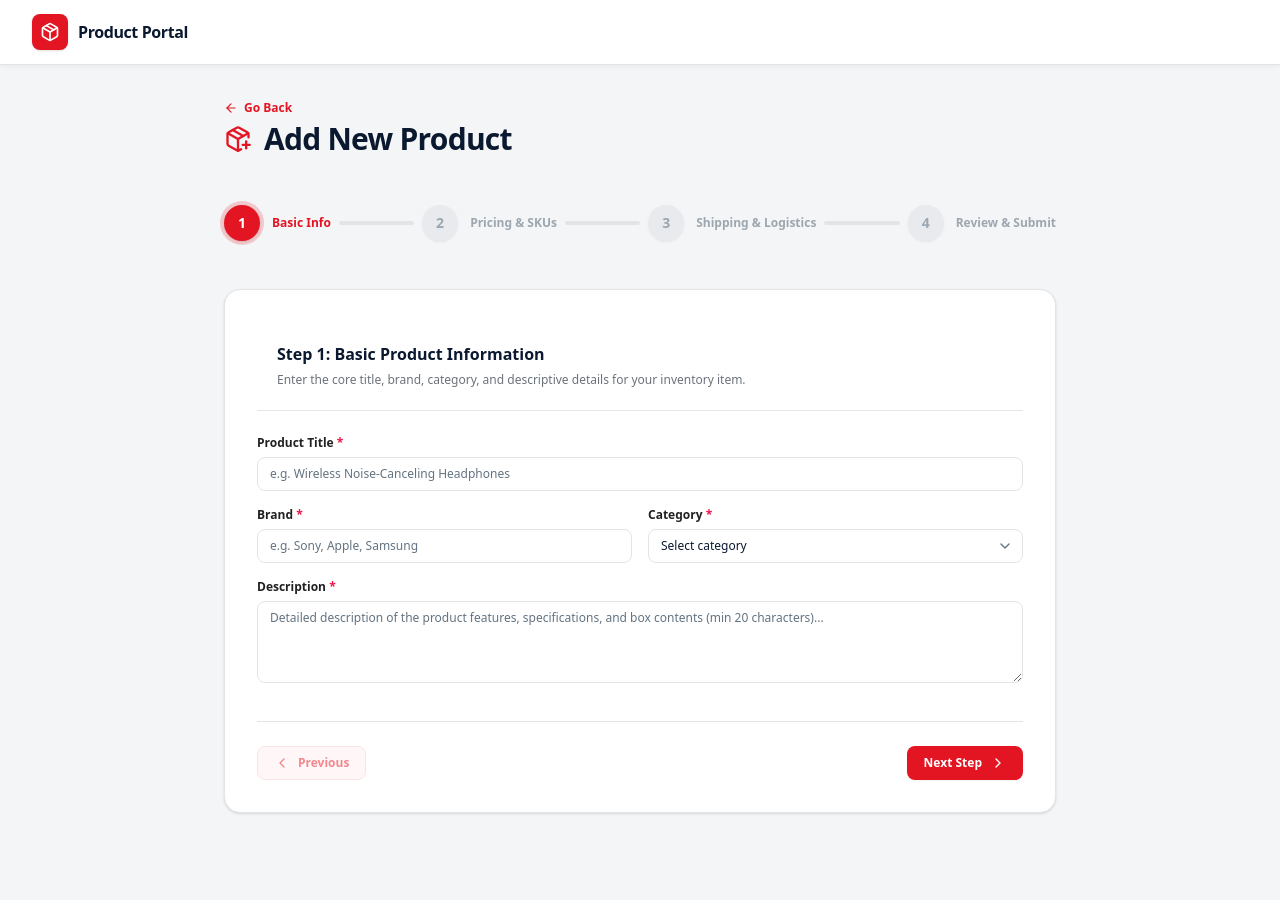
Test: Page Unit Test: /products/new (Add New Product Page) › should render 4-step wizard onboarding page and navigate between steps
Expected: the text "Add New Product" is shown, [264,121,512,157]
Expected: the text "Step 1: Basic Product Information" is shown, [277,342,545,366]
Type "Smart Bluetooth Earbuds Pro" into the field with placeholder "e.g. Wireless Noise-Canceling Headphones" at (640, 474), box [257,456,1023,490]
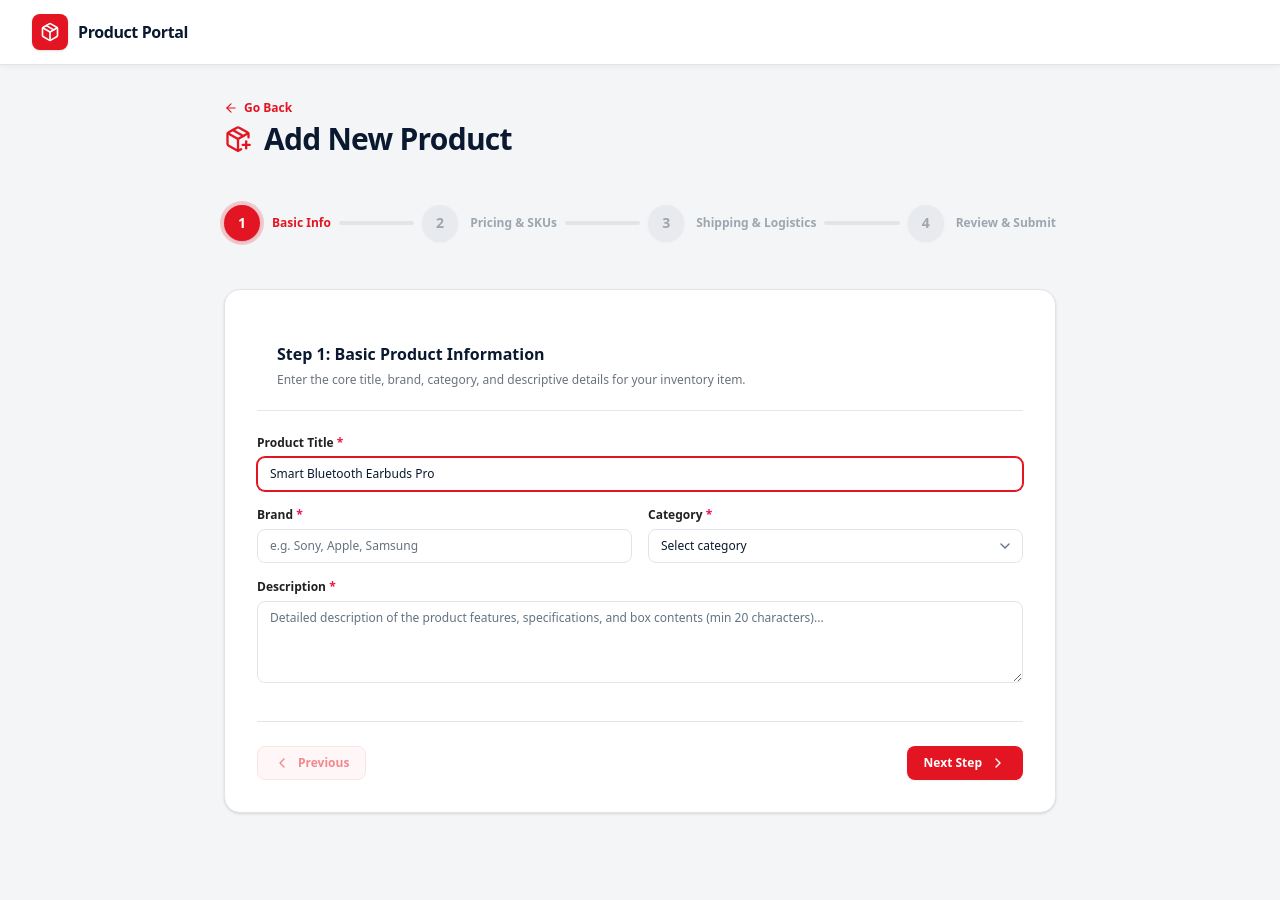
Type "TechCorp" into the field with placeholder "e.g. Sony, Apple, Samsung" at (444, 546), box [257,528,632,562]
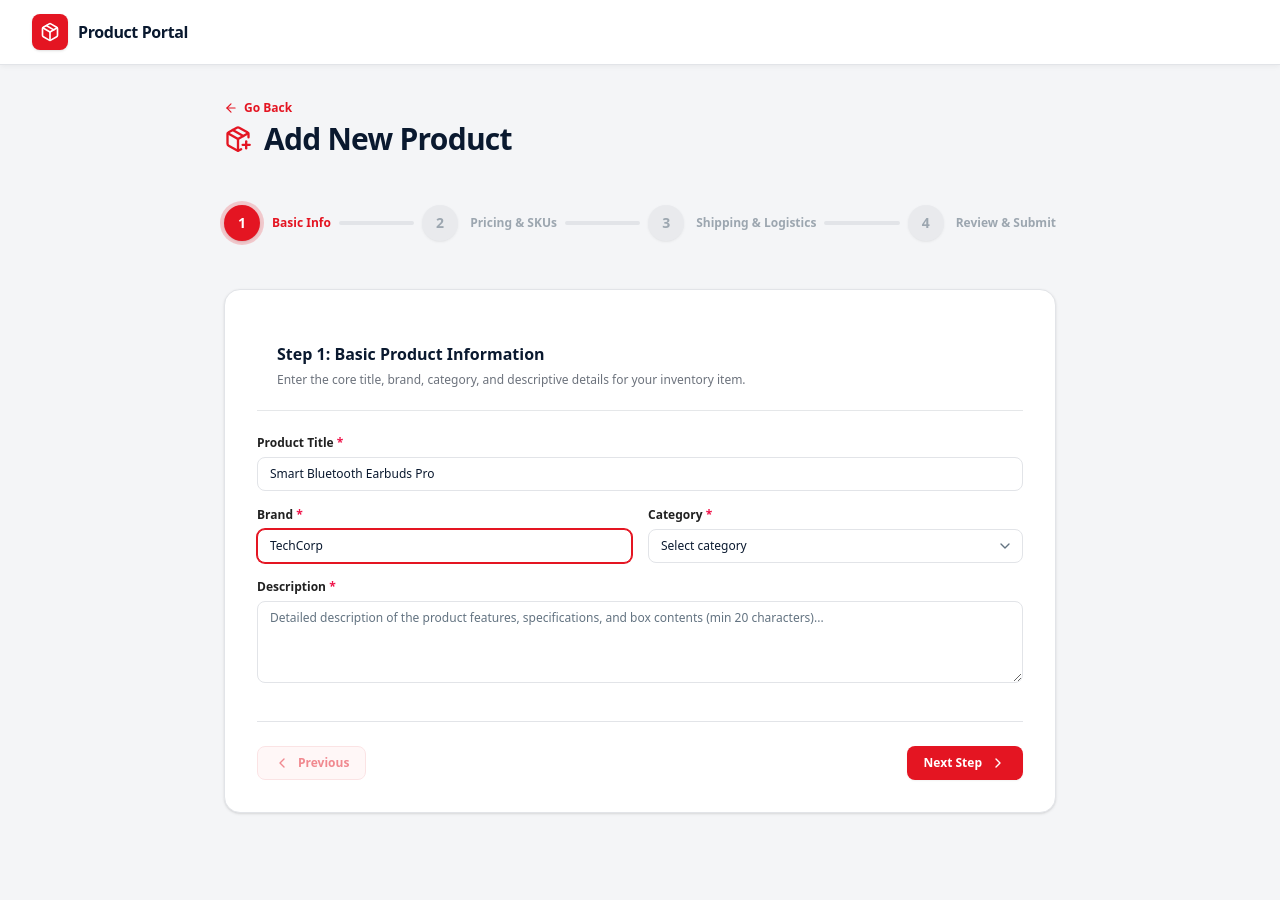
Select "Smartphones" in the dropdown at (836, 546), box [648,528,1023,562]
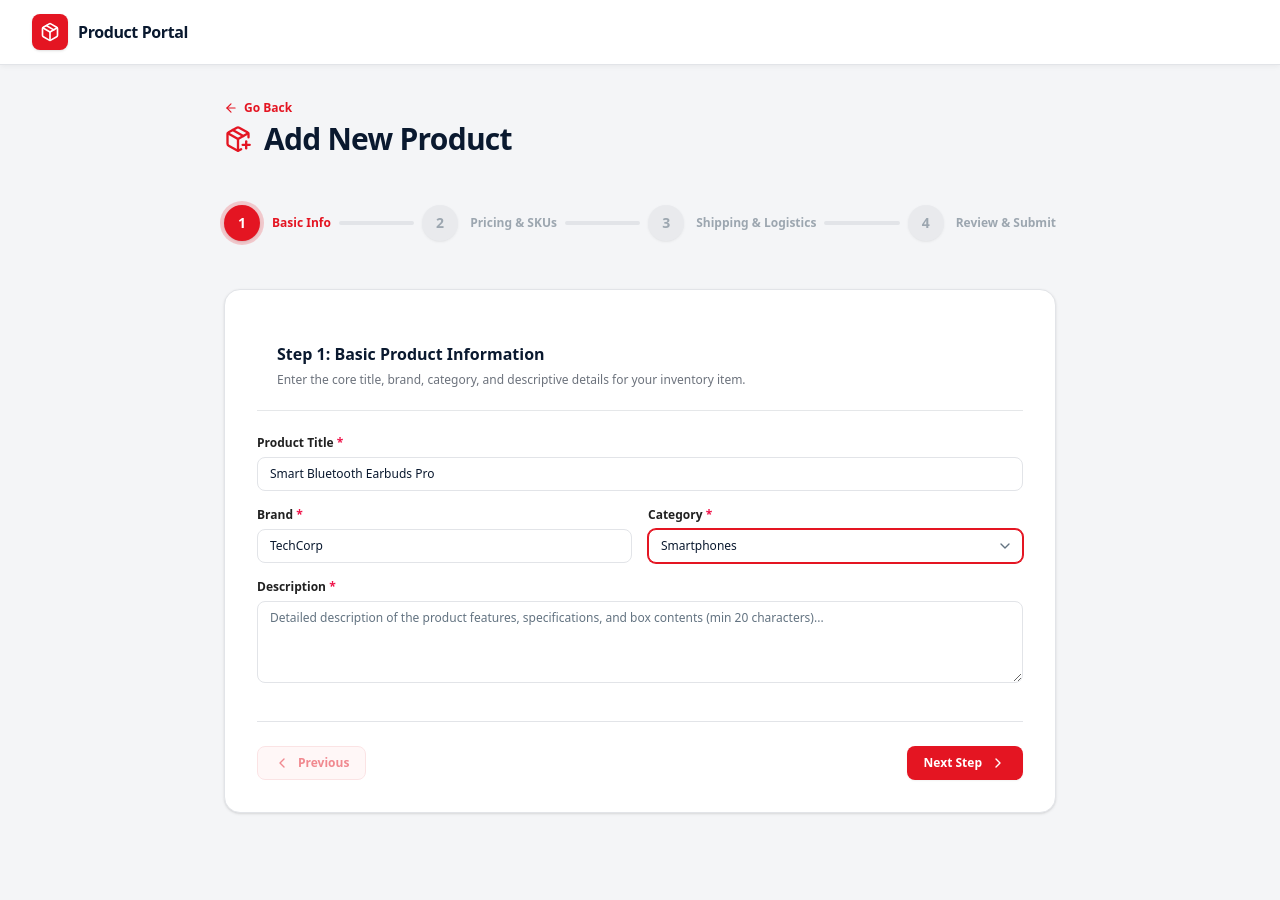
Type "High-performance noise cancelling earbuds with fast wireless charging case." into the text box with placeholder "Detailed description of the product features" at (640, 642), box [257,600,1023,682]
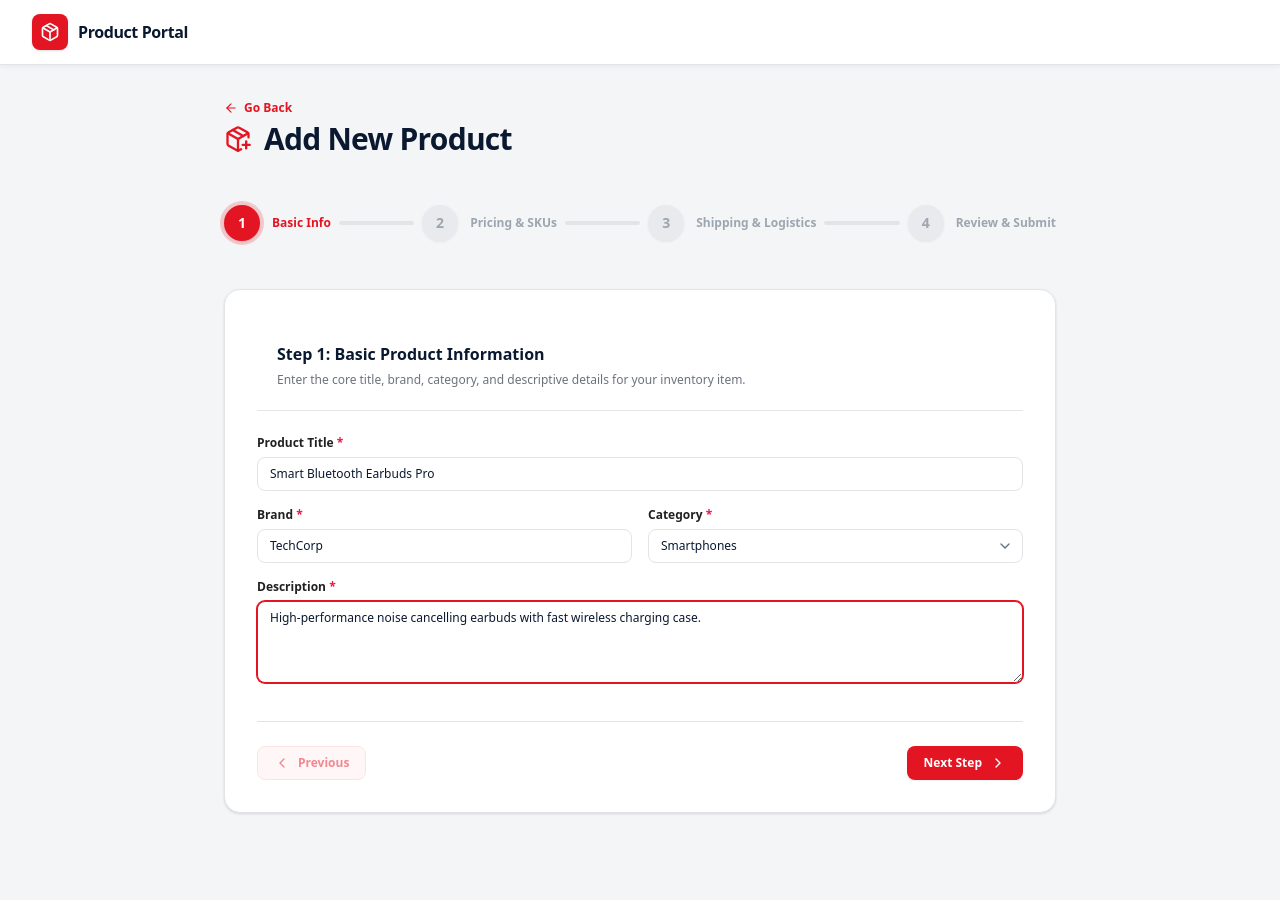
Click the button "Next Step" at (965, 762), box [907,746,1023,780]
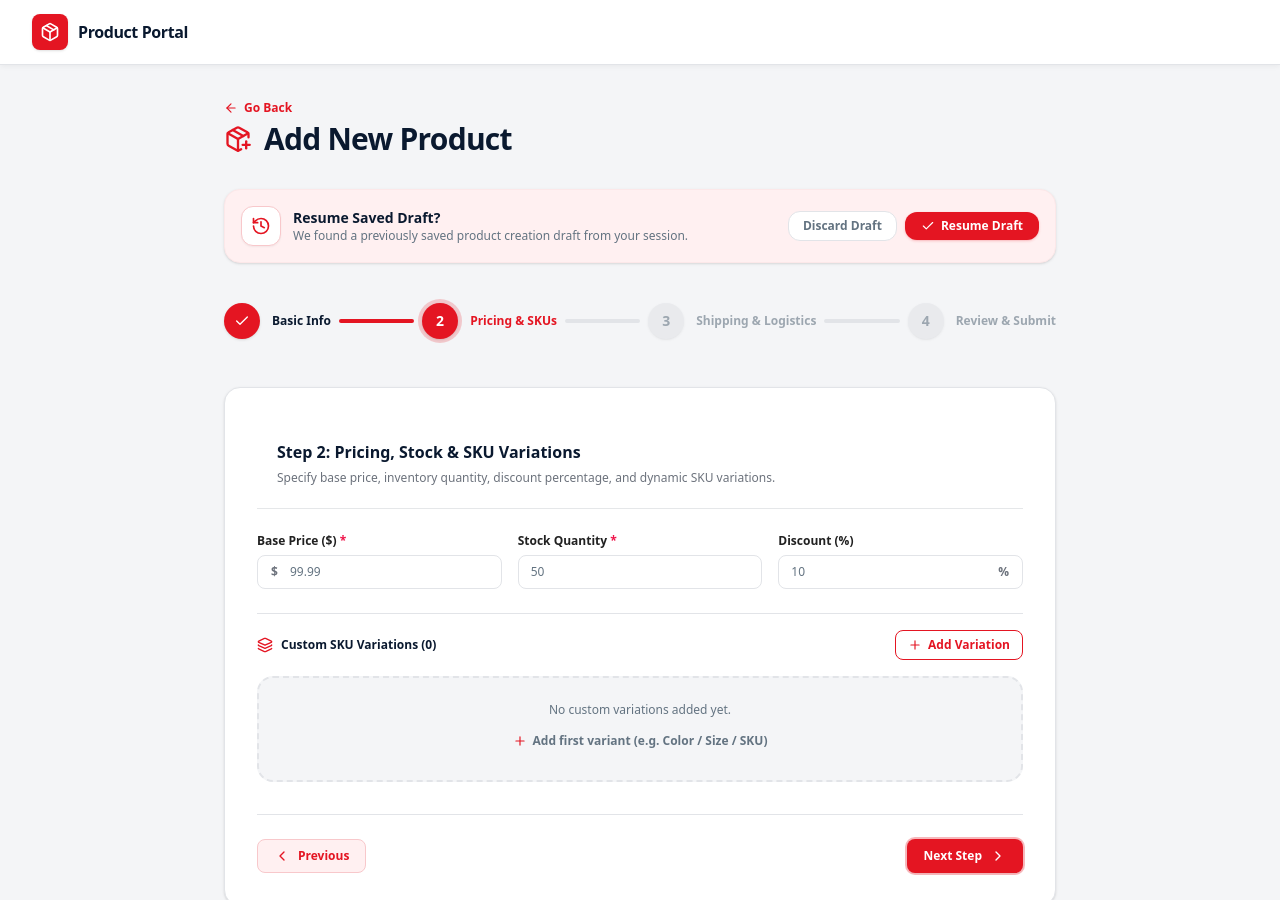
Now the text "Step 2: Pricing, Stock & SKU Variations" is shown, box [277,440,581,464]
